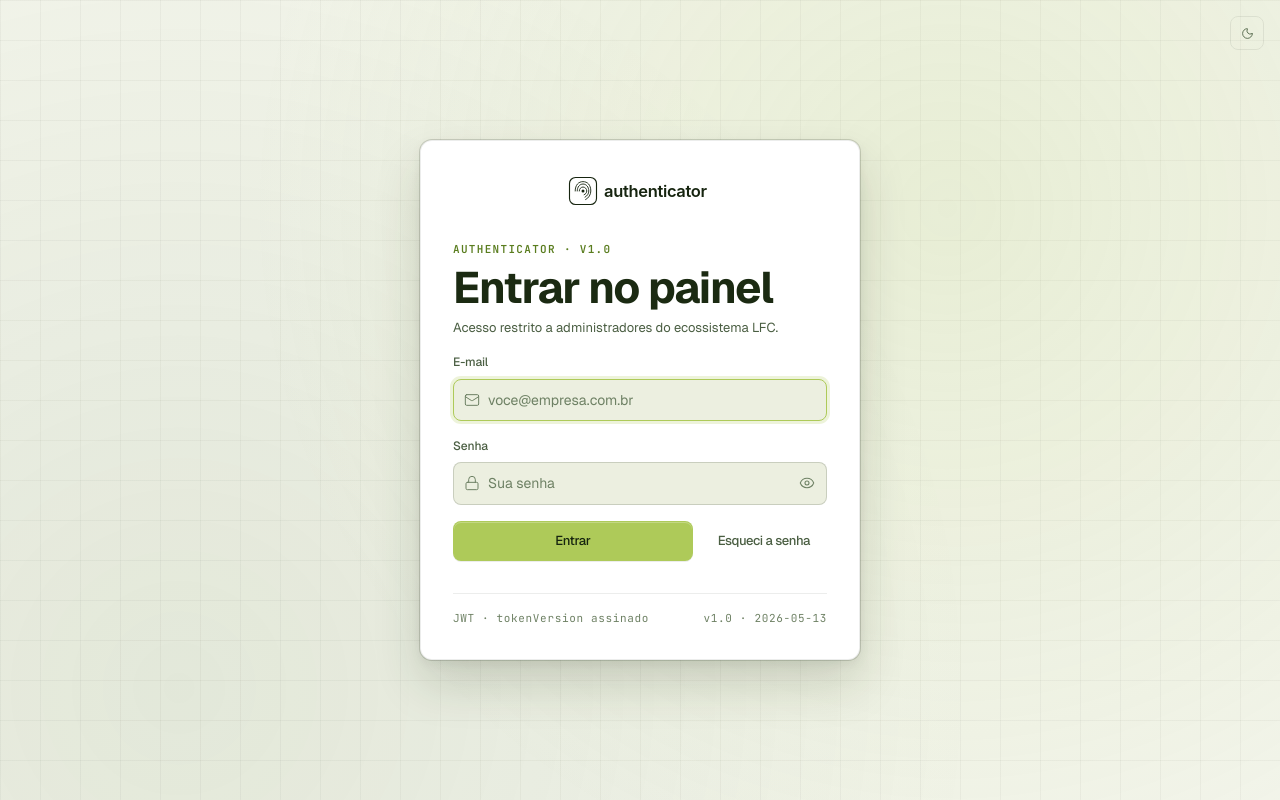
Test case: LoginPage — esqueci a senha › dispara toast informativo ao clicar em "Esqueci a senha"
The width and height of the screenshot is (1280, 800).
Click the button with test id "login-forgot" at (764, 541), box [701, 521, 827, 561]
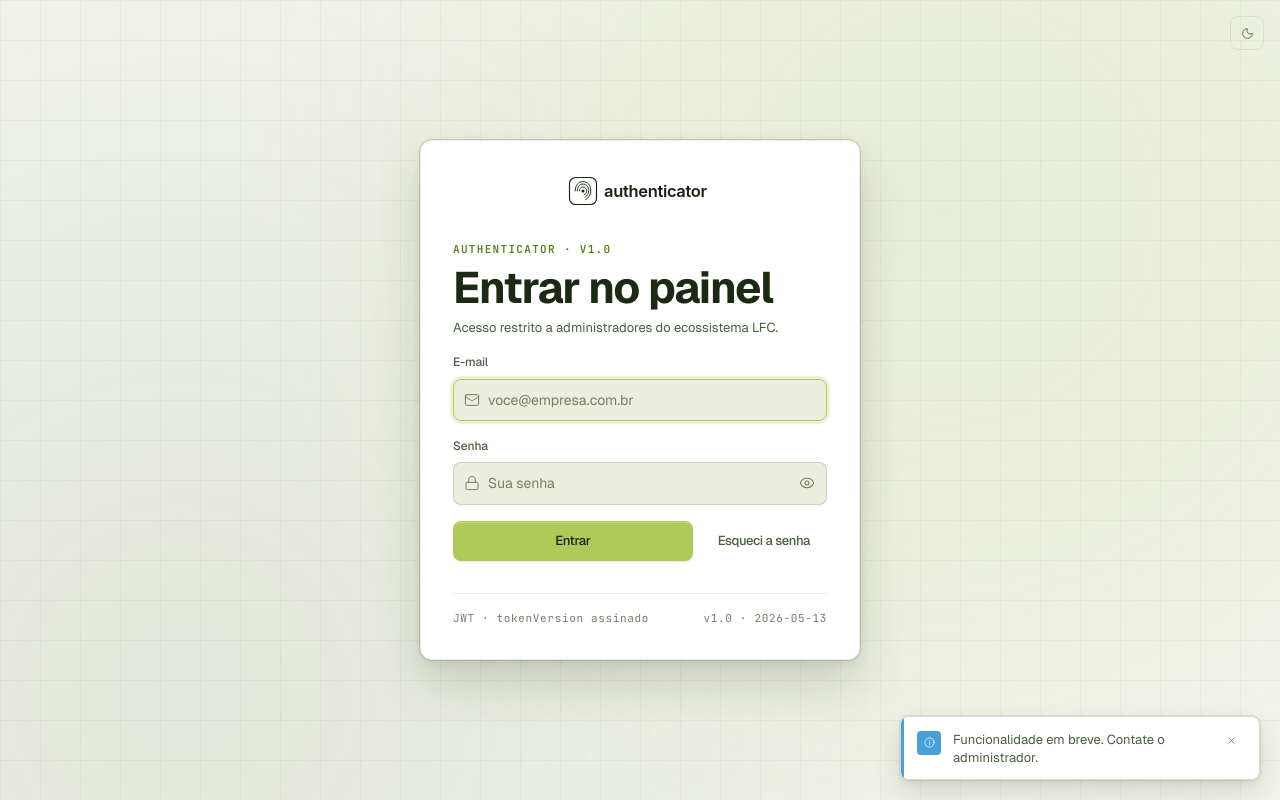
Result: the text "Funcionalidade em breve. Contate o administrador." is shown at [953, 731, 1165, 766]
